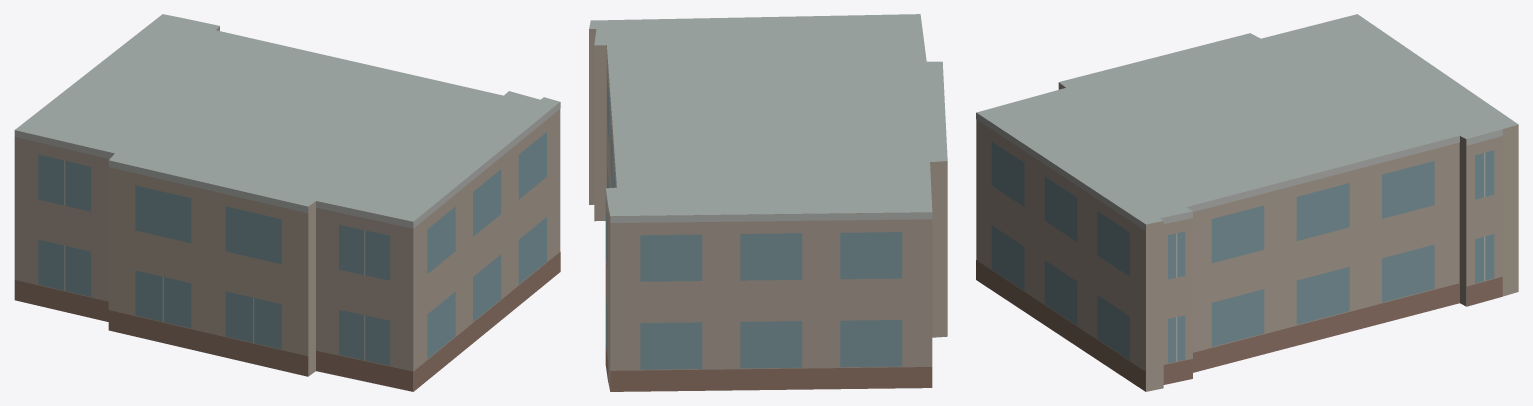
The model's file is survey-upis-33022411.glb.
3 views of the same model, side by side, from view 1: azimuth 30°, elevation 25°; view 2: azimuth 150°, elevation 25°; view 3: azimuth 270°, elevation 25° (orthographic). The views are drawn at different scales.
Visible parts, largest first — view 1: survey-upis-33022411.tmp; view 2: survey-upis-33022411.tmp; view 3: survey-upis-33022411.tmp.
Boxes of the visible parts, x1,y1,x2,y2 form: survey-upis-33022411.tmp: [14, 14, 560, 391]; survey-upis-33022411.tmp: [589, 14, 947, 391]; survey-upis-33022411.tmp: [976, 14, 1518, 391].
Bounding box in the file's own units: 16.46 × 6.1 × 17.92.
